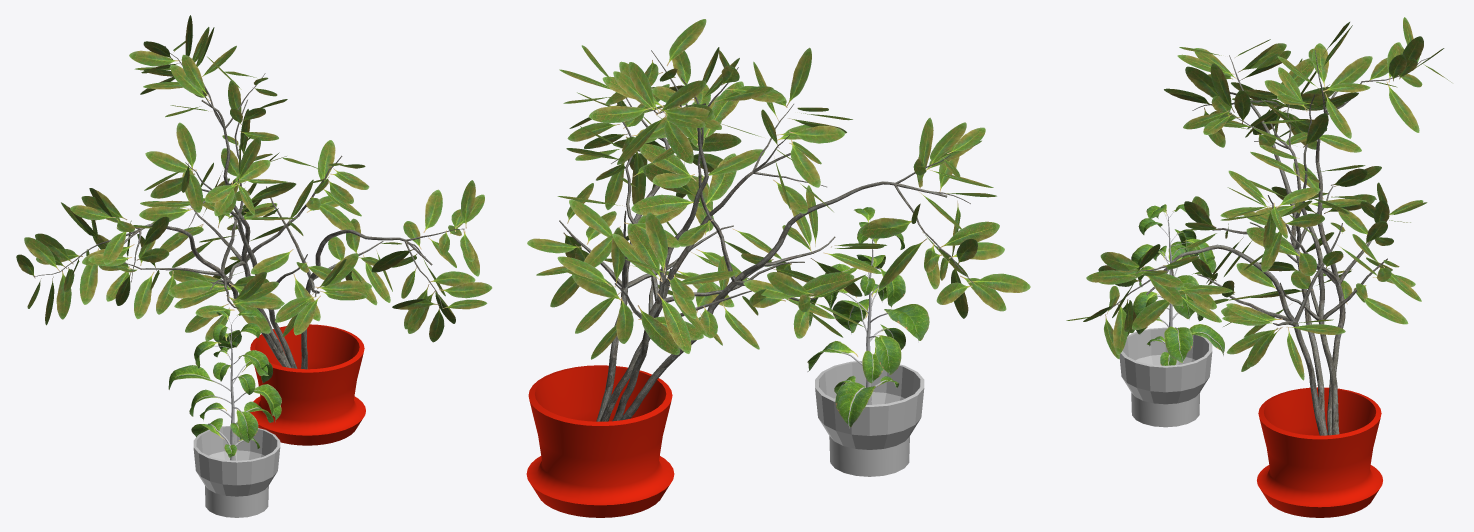
File: house plant.fbx
The picture shows the model from 3 angles, left to right: view 1: azimuth 30°, elevation 25°; view 2: azimuth 150°, elevation 25°; view 3: azimuth 270°, elevation 25°; orthographic projection. The views are drawn at different scales.
Visible parts, largest first — view 1: tanaman, Cylinder001, Cylinder003, ehehehe; view 2: tanaman, Cylinder001, Cylinder003, ehehehe; view 3: tanaman, Cylinder001, Cylinder003, ehehehe.
Part boxes in pixels (box(x1,y1,x2,y2)): tanaman: box(16, 15, 492, 369); Cylinder001: box(250, 324, 365, 445); Cylinder003: box(193, 426, 280, 517); ehehehe: box(168, 309, 281, 460); tanaman: box(527, 19, 1030, 421); Cylinder001: box(526, 365, 674, 517); Cylinder003: box(815, 361, 924, 476); ehehehe: box(807, 207, 929, 428); tanaman: box(1066, 17, 1451, 435); Cylinder001: box(1257, 387, 1382, 517); Cylinder003: box(1119, 327, 1212, 427); ehehehe: box(1131, 204, 1224, 365).
Size of the model in its own units: 75.94 by 68.07 by 57.82.
